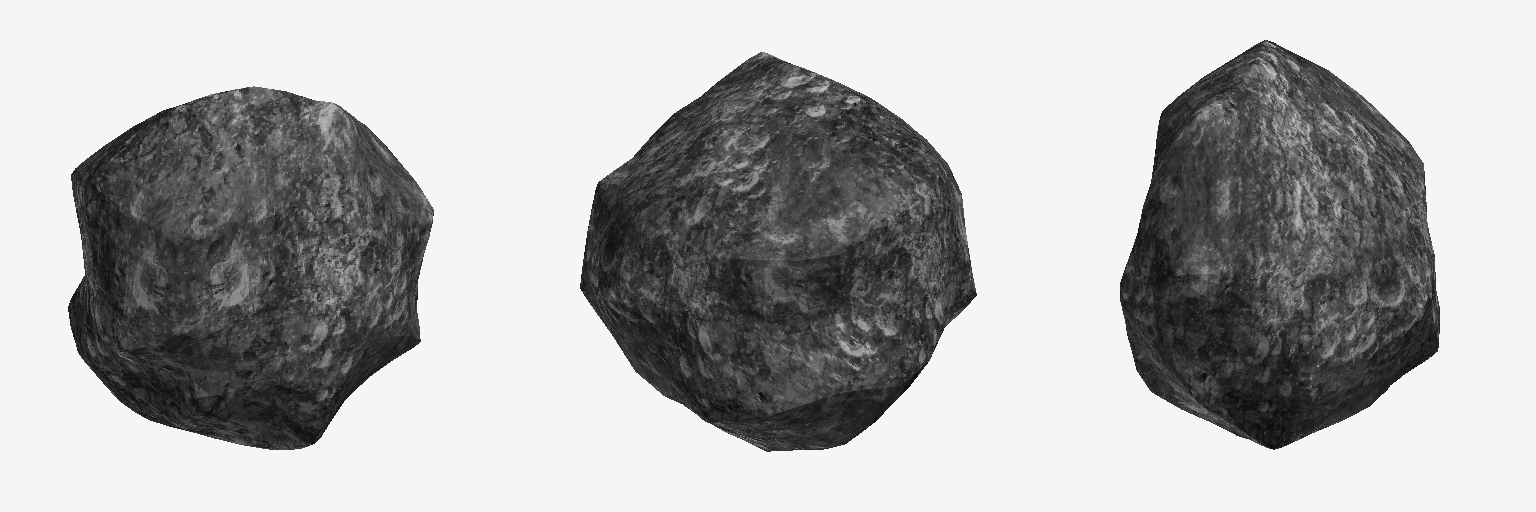
The picture shows the model from 3 angles: view 1: azimuth 30°, elevation 25°; view 2: azimuth 150°, elevation 25°; view 3: azimuth 270°, elevation 25°; orthographic projection.
Parts seen in each view (by area): view 1: Aster_Small_1__Cube.017; view 2: Aster_Small_1__Cube.017; view 3: Aster_Small_1__Cube.017.
Part boxes in pixels (bbox=[...]): Aster_Small_1__Cube.017: bbox=[68, 86, 433, 449]; Aster_Small_1__Cube.017: bbox=[580, 52, 976, 451]; Aster_Small_1__Cube.017: bbox=[1120, 40, 1439, 449].
Bounding box in the file's own units: 1.24 × 1.26 × 1.
Materials: 1 (1 with a texture image).